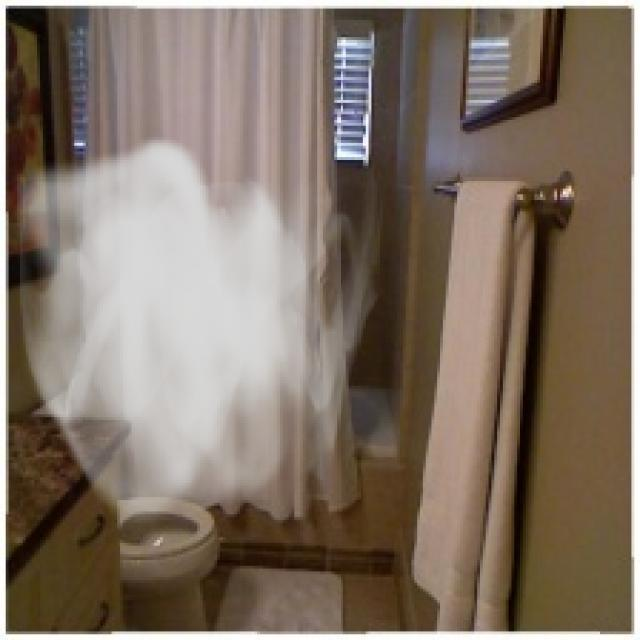Smoke: (6, 135, 386, 534)
